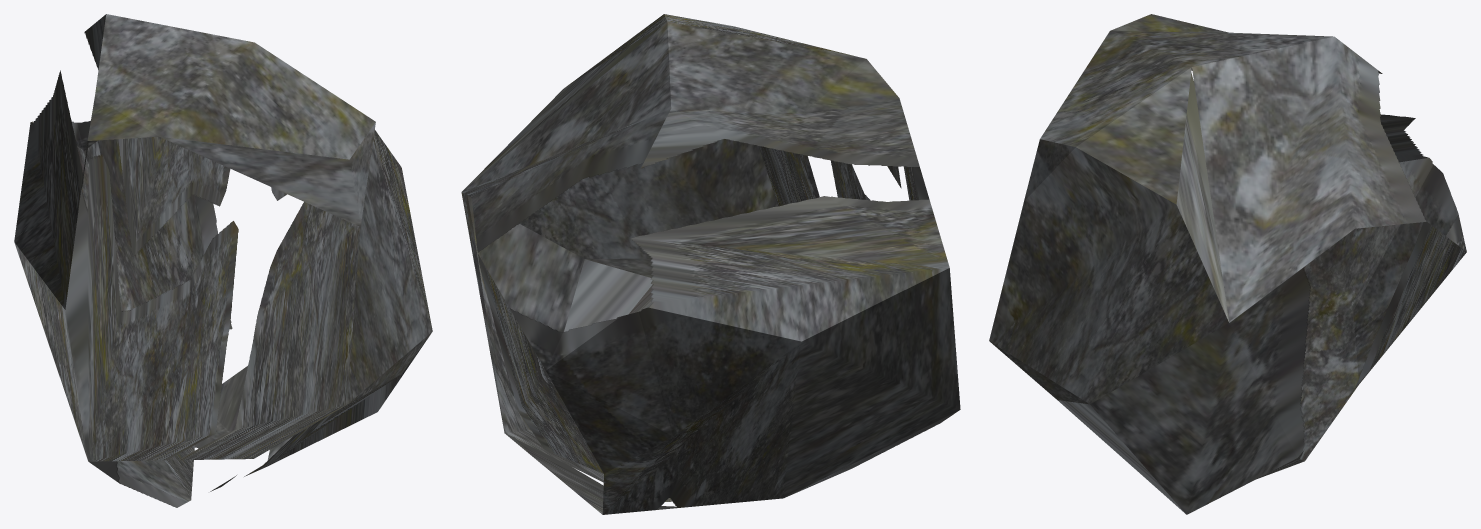
Rendered from rock4_circular.fbx.
The picture shows the model from 3 angles, left to right: view 1: azimuth 30°, elevation 25°; view 2: azimuth 150°, elevation 25°; view 3: azimuth 270°, elevation 25°; orthographic projection. The views are drawn at different scales.
Visible parts, largest first — view 1: Cube; view 2: Cube; view 3: Cube.
Part boxes in pixels (left/top/right/bottom): Cube: left=14, top=14, right=432, bottom=507; Cube: left=461, top=14, right=960, bottom=514; Cube: left=989, top=14, right=1466, bottom=514.
Size of the model in its own units: 966 by 1030 by 1050.
Materials: 1 (1 with a texture image).
